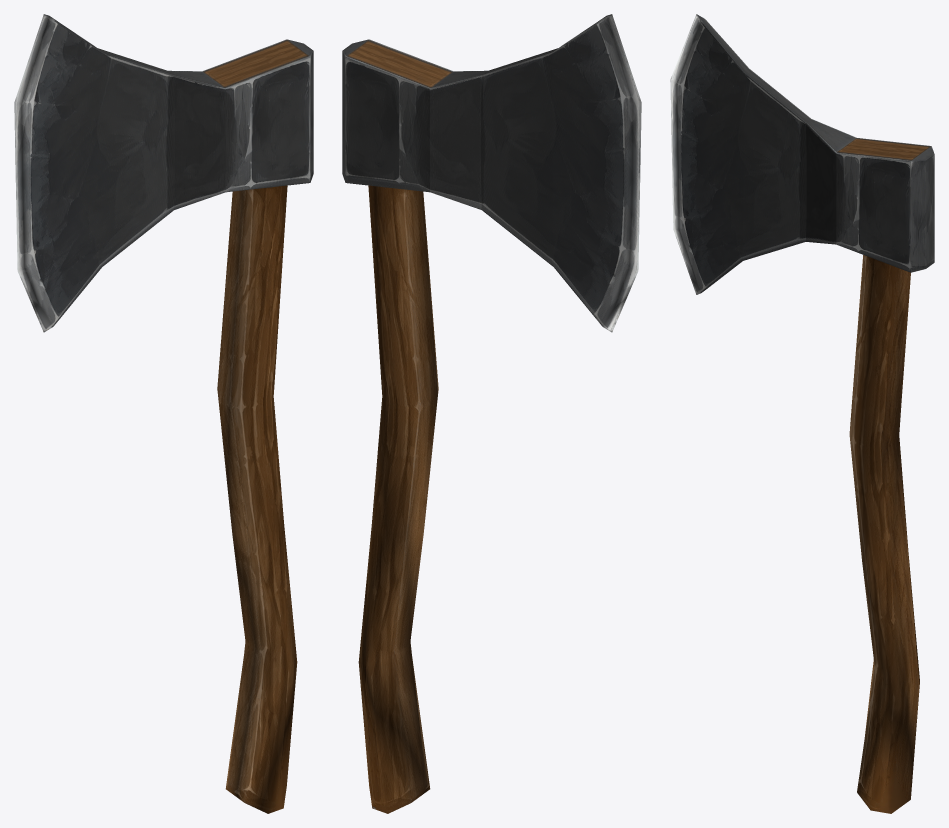
Rendered from Axe.glb.
3 renders of one model, left to right at view 1: azimuth 30°, elevation 25°; view 2: azimuth 150°, elevation 25°; view 3: azimuth 330°, elevation 25°, orthographic. The views are drawn at different scales.
Parts seen in each view (by area): view 1: mesh_node; view 2: mesh_node; view 3: mesh_node.
Boxes of the visible parts, x1=… form: mesh_node: x1=14, y1=14, x2=313, y2=813; mesh_node: x1=342, y1=14, x2=641, y2=813; mesh_node: x1=670, y1=14, x2=934, y2=813.
Bounding box in the file's own units: 0.7307 × 2 × 0.1155.
Materials: 1 (1 with a texture image).
